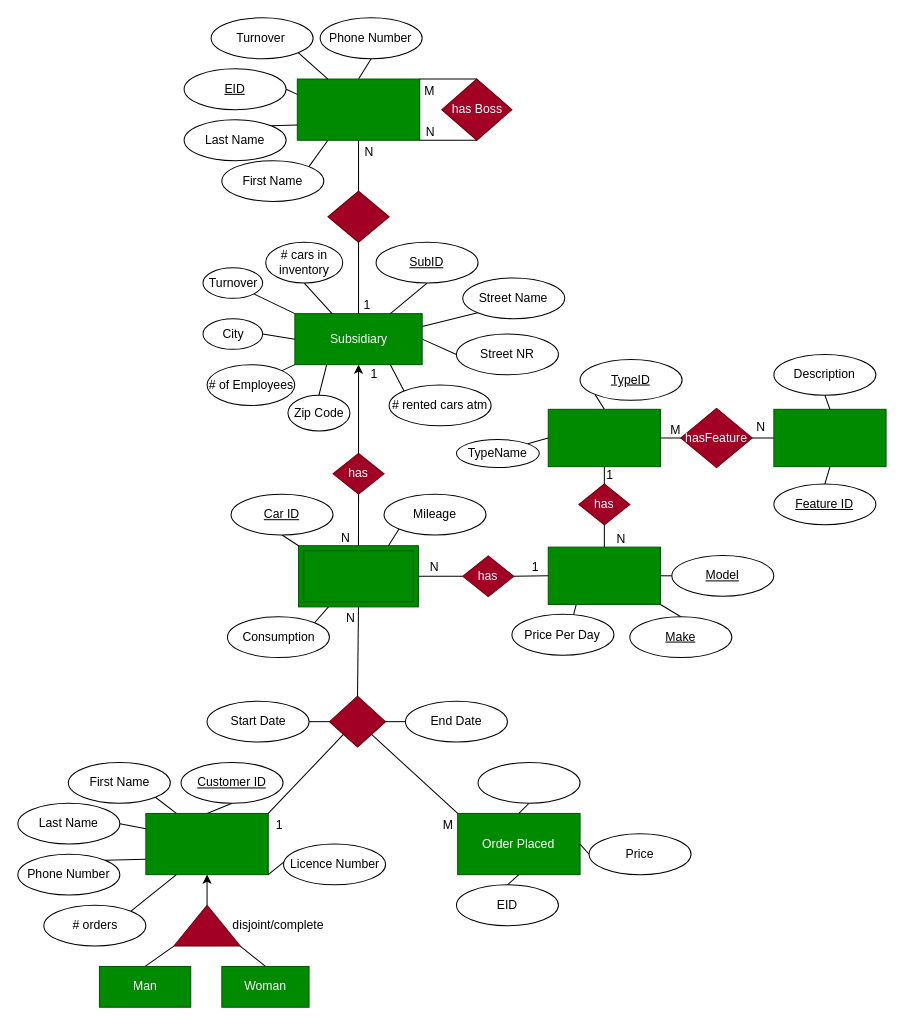
Some shapes in this 905 by 1025 pixel diagram are drawn without their labels. Each missing label, with the centre of its shape:
Car: (358,576)
Customer: (206,843)
Employee: (358,109)
employs: (358,216)
Feature: (829,437)
is a: (206,925)
Make/Model: (603,575)
Order ID: (528,782)
rents: (357,721)
Type: (603,437)
